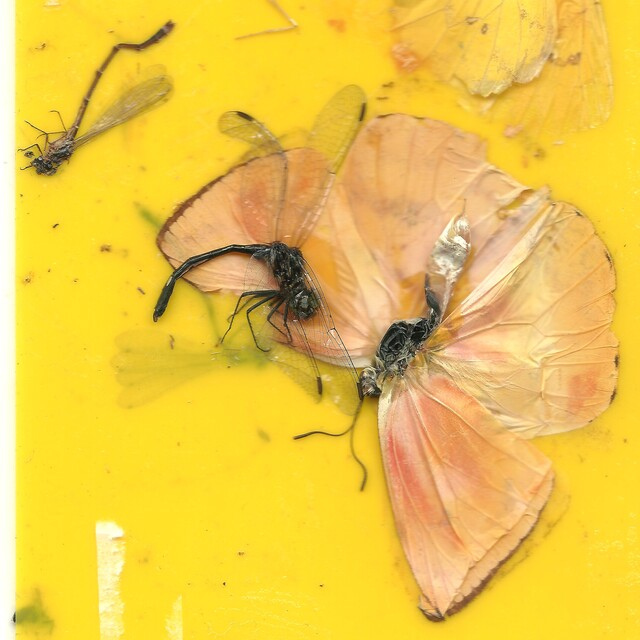Lepidoptera: (157, 110, 623, 622)
Odonata: (152, 84, 365, 416), (17, 18, 177, 178)
